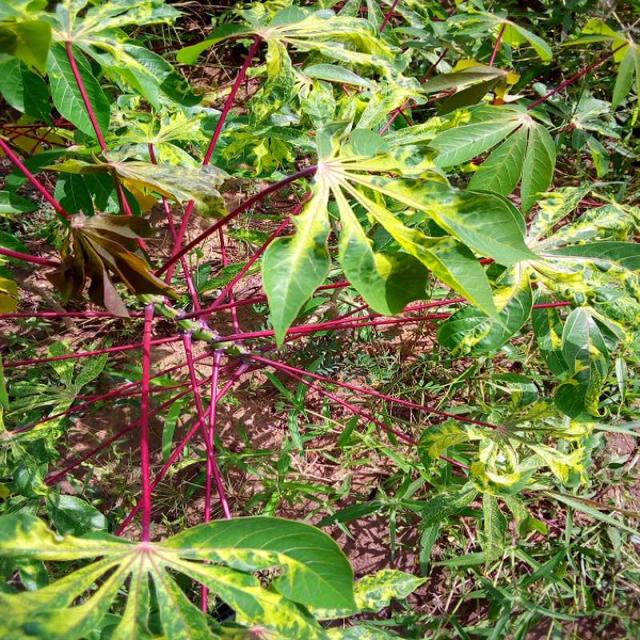cassava leaf: (158, 515, 356, 623)
